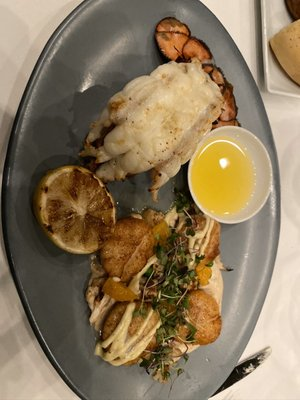sushi: (1, 0, 297, 394), (187, 126, 273, 225)
